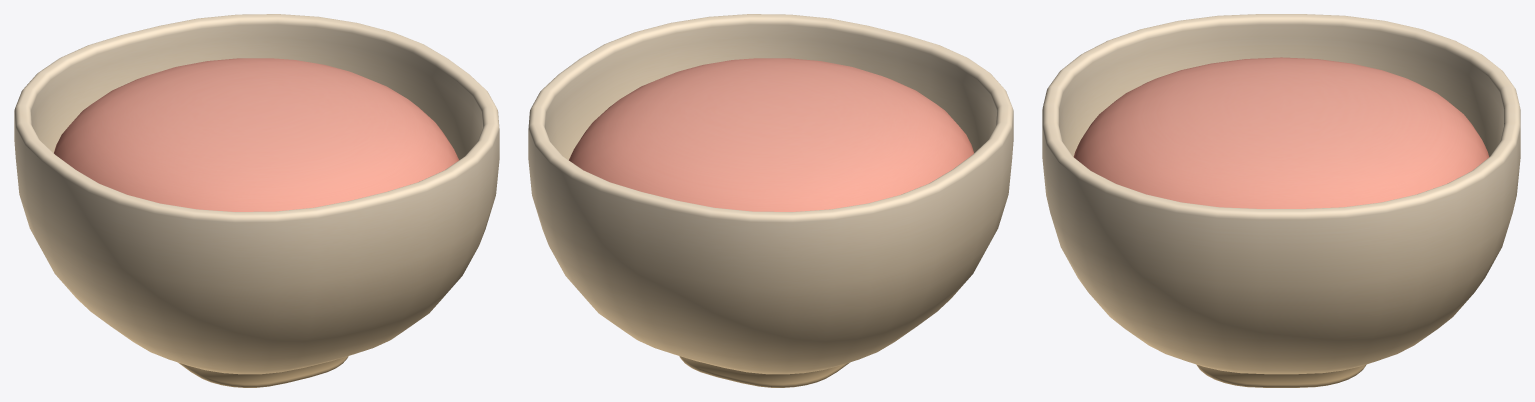
The model's file is Donut_Dough_Bowl.fbx.
3 views of the same model, side by side, from view 1: azimuth 30°, elevation 25°; view 2: azimuth 150°, elevation 25°; view 3: azimuth 270°, elevation 25° (orthographic).
Visible parts, largest first — view 1: Donut_Dough_Bowl; view 2: Donut_Dough_Bowl; view 3: Donut_Dough_Bowl.
Part boxes in pixels (x1,y1,x2,y2): Donut_Dough_Bowl: (14,14,499,387); Donut_Dough_Bowl: (528,14,1013,387); Donut_Dough_Bowl: (1042,14,1520,387).
Bounding box in the file's own units: 32.71 × 18.93 × 32.71.
